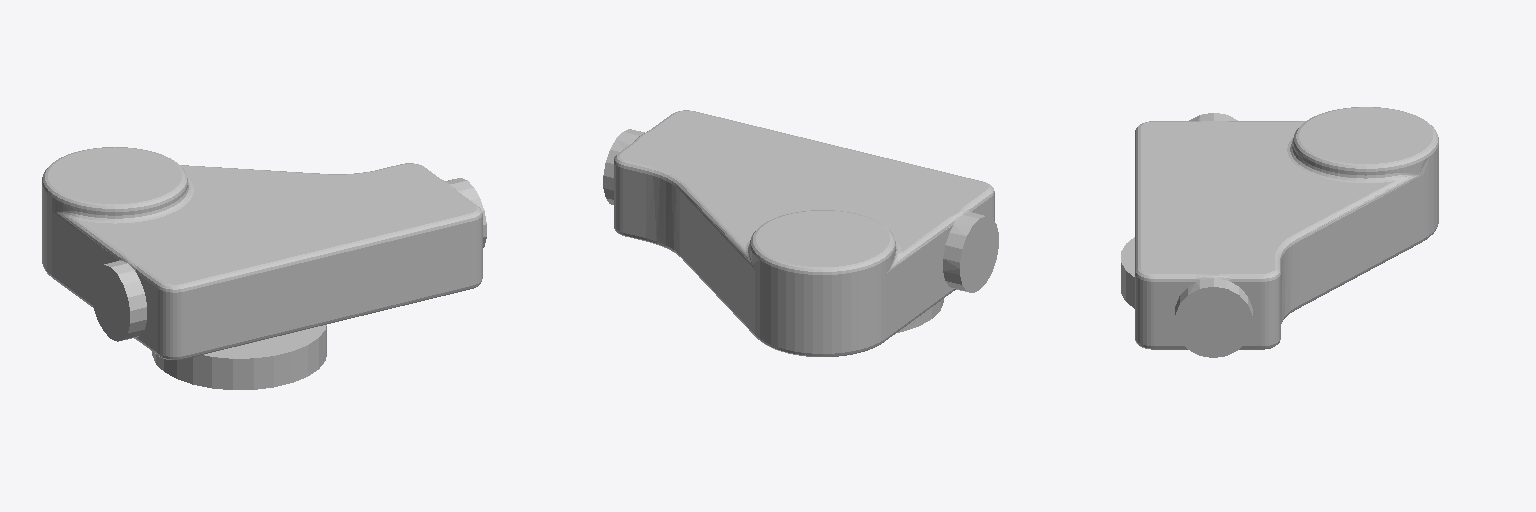
Rendered from bolt_hip_fe_left_side.obj.
The picture shows the model from 3 angles: view 1: azimuth 30°, elevation 25°; view 2: azimuth 150°, elevation 25°; view 3: azimuth 270°, elevation 25°; orthographic projection.
Visible parts, largest first — view 1: obj1; view 2: obj1; view 3: obj1.
Boxes of the visible parts, box(x1,y1,x2,y2) form: obj1: box(42, 147, 486, 389); obj1: box(603, 110, 998, 356); obj1: box(1121, 107, 1438, 357).
Bounding box in the file's own units: 0.1043 × 0.0405 × 0.0806.